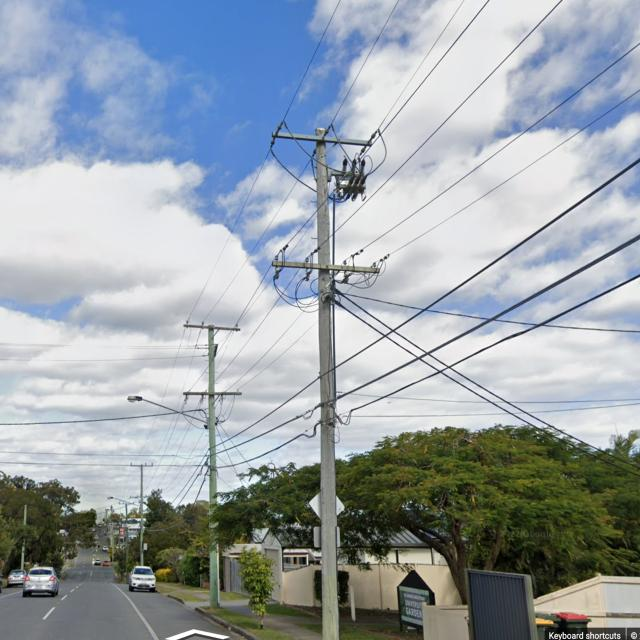HV-switch: (336, 156, 370, 202)
HV-transmission: (269, 120, 381, 158), (183, 320, 241, 331), (130, 462, 153, 467)
LV link: (343, 248, 362, 284), (272, 244, 288, 281), (305, 246, 320, 282)
crossarm: (272, 131, 372, 148), (272, 260, 379, 273), (183, 324, 241, 331), (183, 391, 242, 396), (130, 465, 153, 467)
streetlight: (127, 396, 210, 426), (107, 497, 141, 508)
timber-pole: (314, 127, 338, 640), (208, 325, 221, 607), (20, 504, 28, 570), (140, 464, 144, 567), (126, 503, 128, 584)
